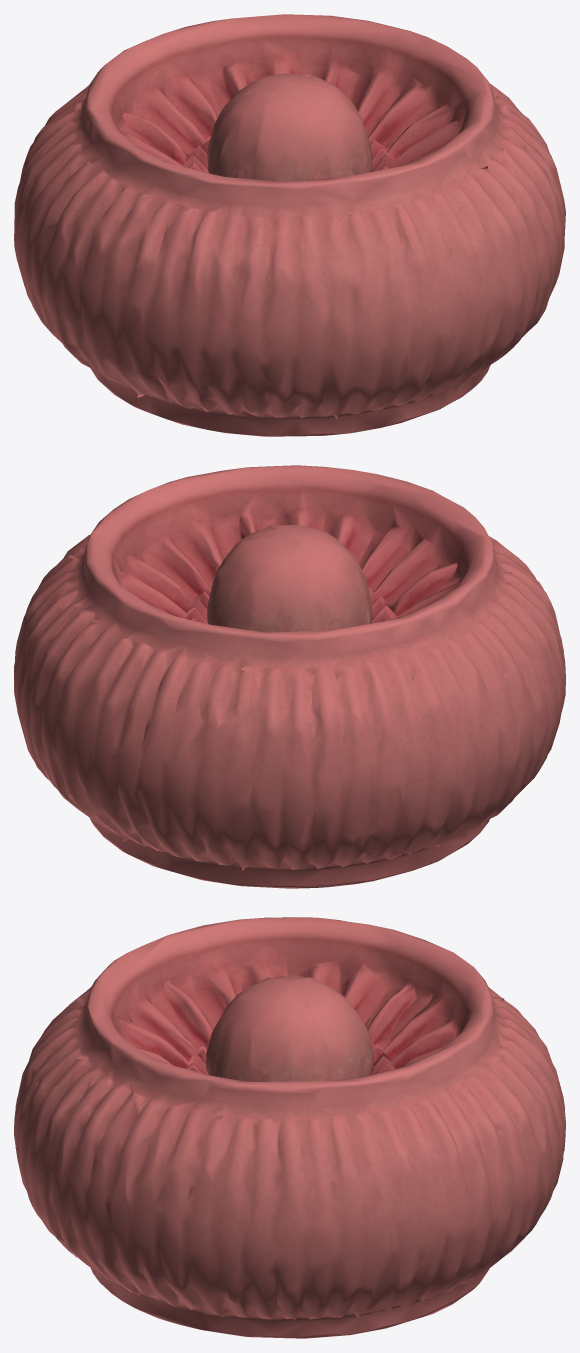
Rendered from Part_Sphincter.glb.
3 views of the same model, one above another, from view 1: azimuth 30°, elevation 25°; view 2: azimuth 150°, elevation 25°; view 3: azimuth 270°, elevation 25° (orthographic).
Bounding box in the file's own units: 1.9 × 1.09 × 1.9.
1 material, 1 textured.
